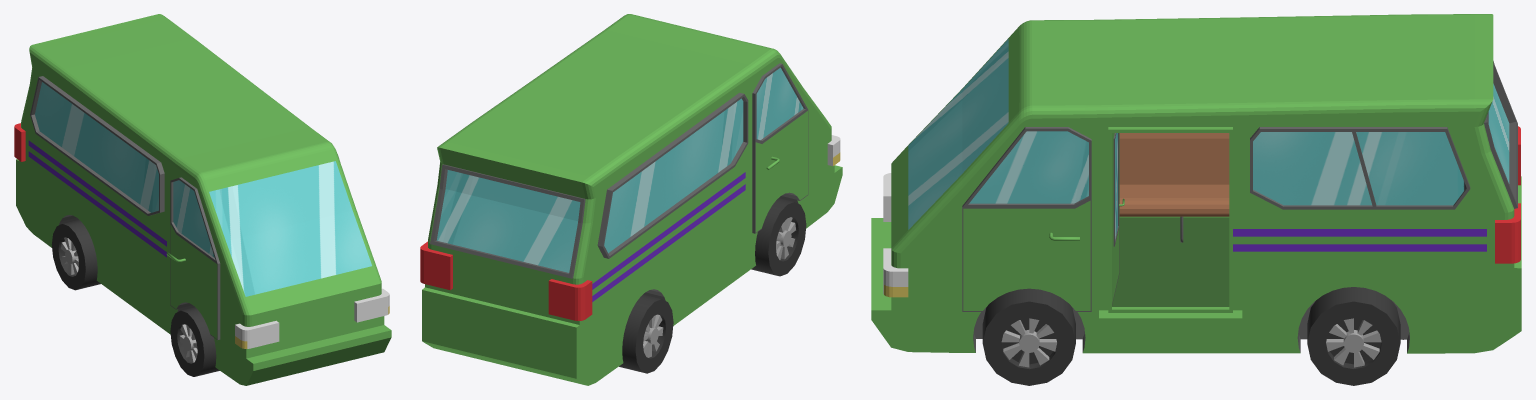
File: Angkot 2.fbx
The picture shows the model from 3 angles, left to right: view 1: azimuth 30°, elevation 25°; view 2: azimuth 150°, elevation 25°; view 3: azimuth 270°, elevation 25°; orthographic projection. The views are drawn at different scales.
Parts seen in each view (by area): view 1: Cube; view 2: Cube; view 3: Cube.
Part boxes in pixels (x1,y1,x2,y2): Cube: [14, 14, 391, 385]; Cube: [420, 14, 842, 385]; Cube: [871, 14, 1521, 385].
Size of the model in its own units: 171 by 205 by 436.
Materials: 12 (1 with a texture image).
